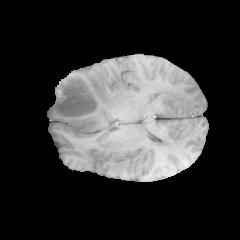glioma: (49, 71, 116, 134)
